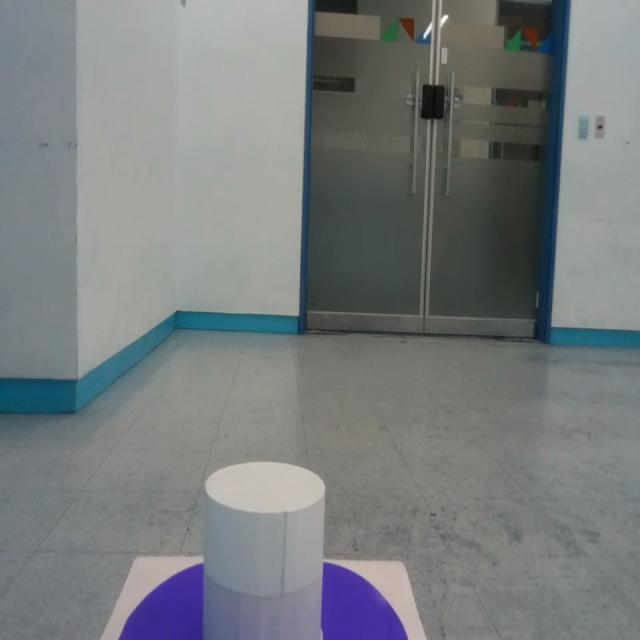cylinder: (201, 462, 327, 638)
